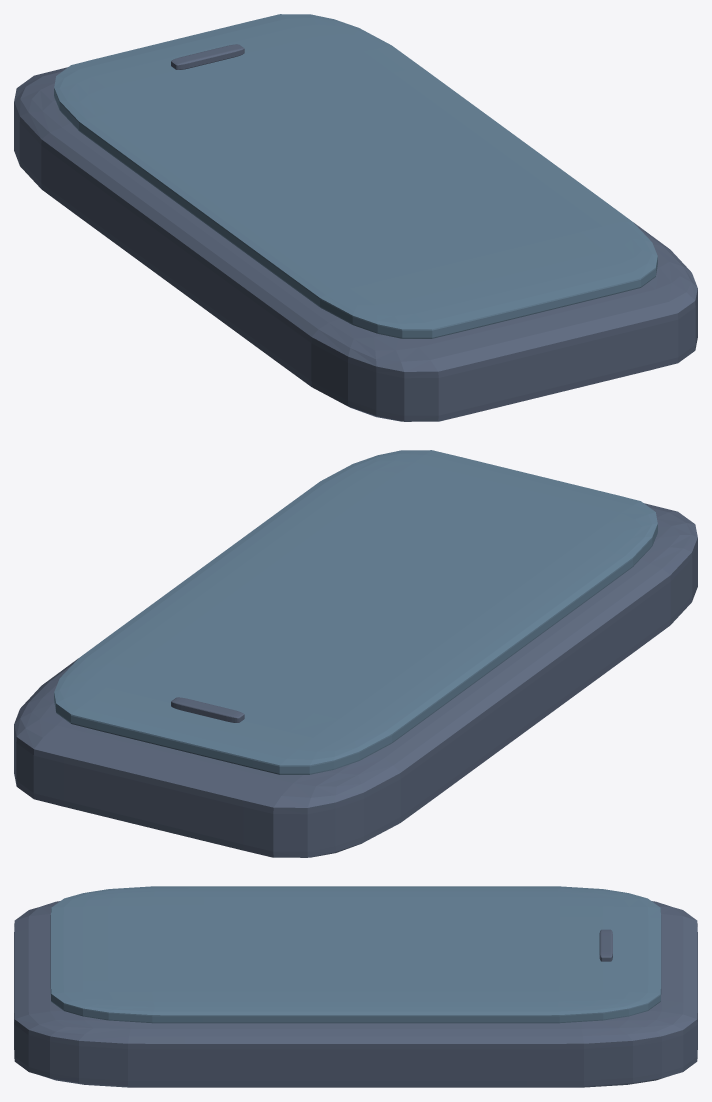
File: smartphone.glb
3 renders of one model, top to bottom at view 1: azimuth 30°, elevation 25°; view 2: azimuth 150°, elevation 25°; view 3: azimuth 270°, elevation 25°, orthographic. The views are drawn at different scales.
Visible parts, largest first — view 1: glass, body, camera; view 2: glass, body, camera; view 3: glass, body, camera.
Boxes of the visible parts, bbox=[...] form: glass: bbox=[54, 14, 657, 338]; body: bbox=[14, 67, 697, 421]; camera: bbox=[171, 44, 244, 69]; glass: bbox=[54, 450, 657, 774]; body: bbox=[14, 503, 697, 857]; camera: bbox=[171, 697, 244, 722]; glass: bbox=[50, 886, 661, 1023]; body: bbox=[14, 901, 697, 1087]; camera: bbox=[599, 929, 612, 961].
Size of the model in its own units: 0.21 by 0.053 by 0.41.
